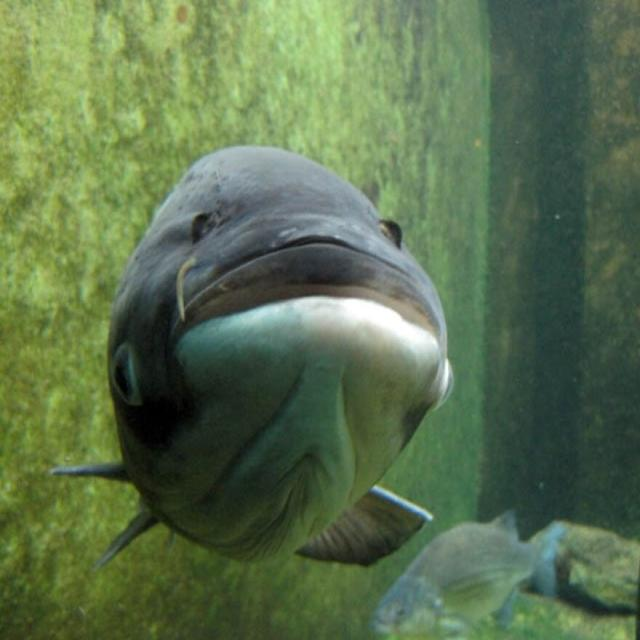Big-Head-Carp: (30, 76, 488, 611)
